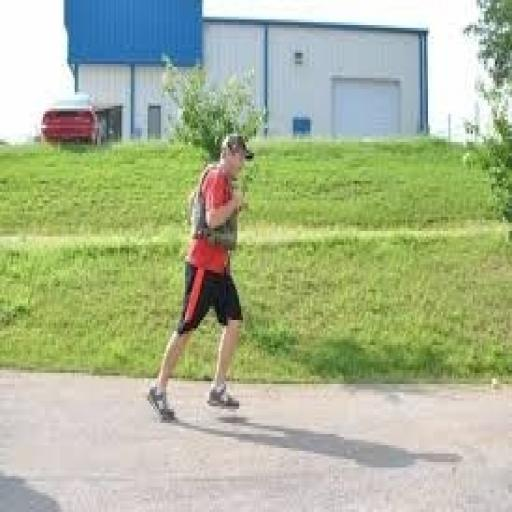running: (146, 128, 256, 426)
